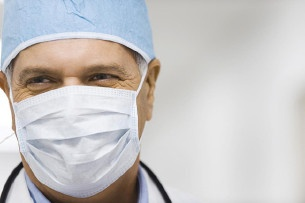Mask: (10, 60, 147, 196)
